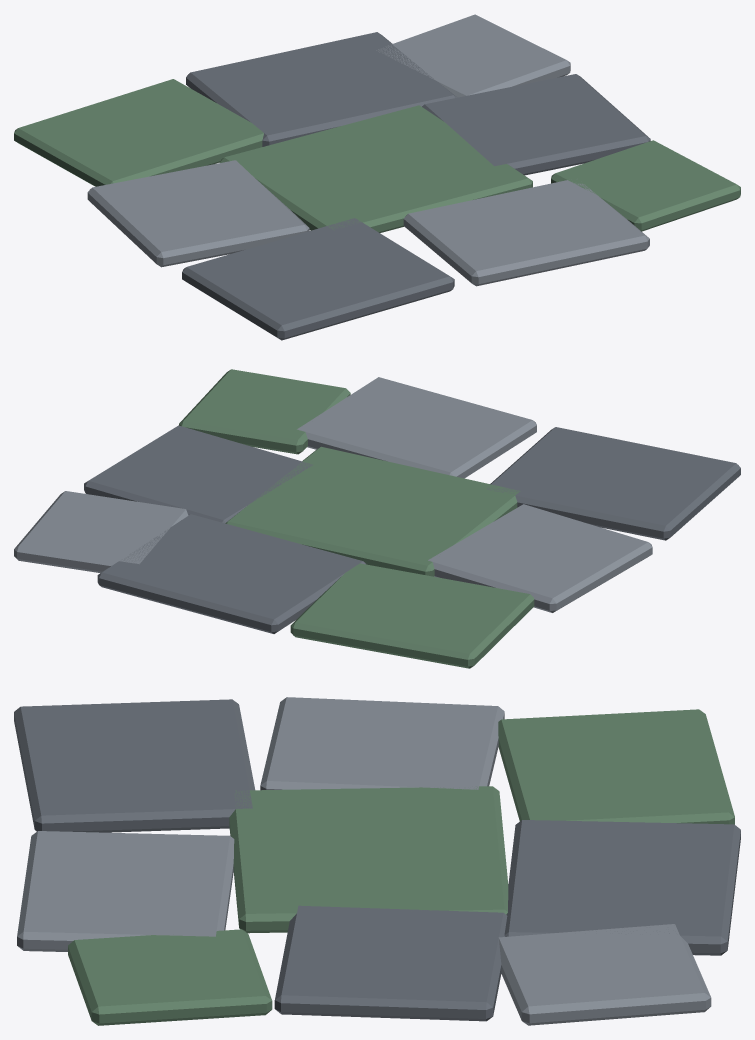
Rendered from outdoor_path.glb.
The picture shows the model from 3 angles, top to bottom: view 1: azimuth 30°, elevation 25°; view 2: azimuth 150°, elevation 25°; view 3: azimuth 270°, elevation 25°; orthographic projection. The views are drawn at different scales.
Visible parts, largest first — view 1: Outdoor_Path; view 2: Outdoor_Path; view 3: Outdoor_Path.
Part boxes in pixels (x1,y1,x2,y2): Outdoor_Path: [14, 14, 740, 340]; Outdoor_Path: [14, 369, 740, 668]; Outdoor_Path: [14, 697, 740, 1025].
Size of the model in its own units: 3.03 by 0.0862 by 2.96.
